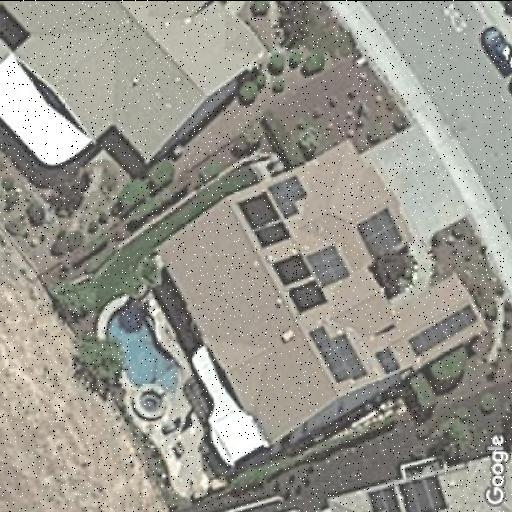solar-panel: (268, 243, 350, 315), (236, 172, 308, 248), (406, 303, 478, 359), (305, 323, 369, 382), (364, 474, 454, 512), (352, 204, 405, 262), (372, 345, 402, 375)
